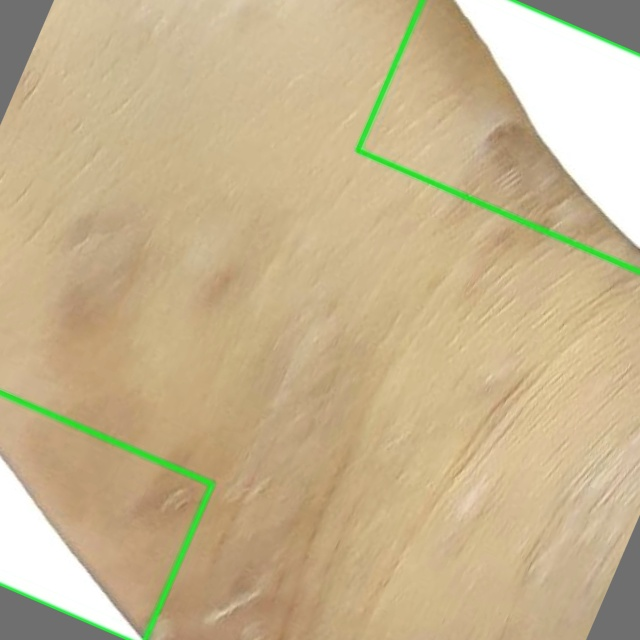Eczema: (357, 0, 639, 271)
